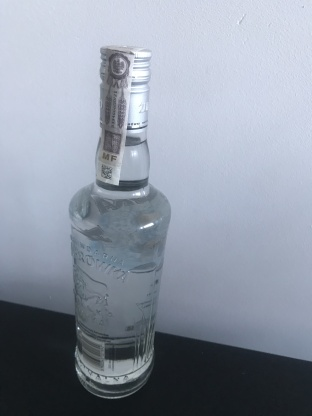nakretka: (97, 41, 154, 136)
